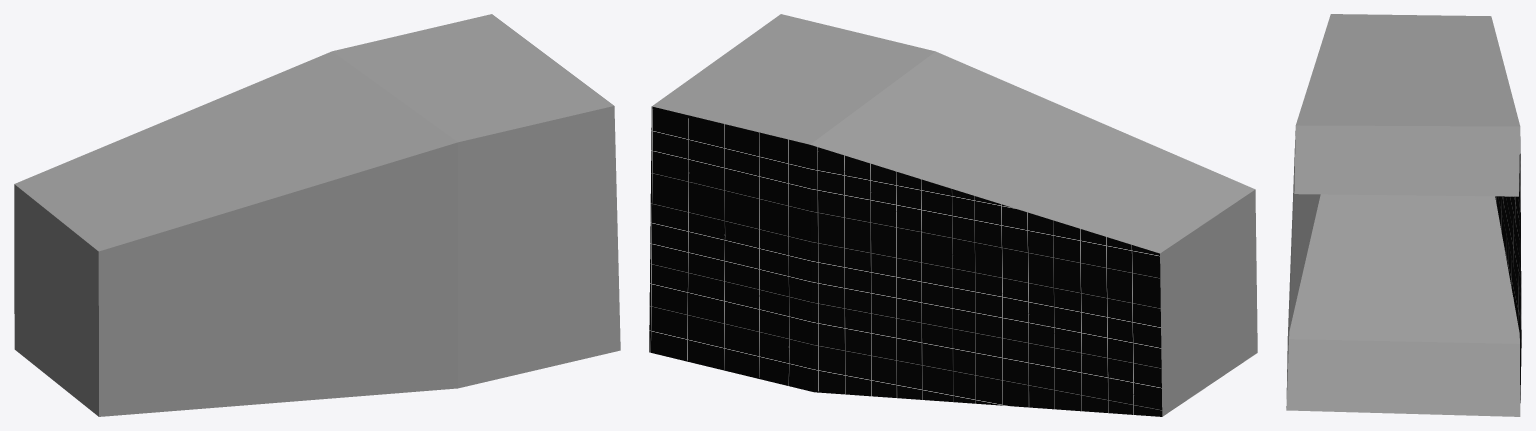
The model's file is app2obj.obj.
The picture shows the model from 3 angles, left to right: view 1: azimuth 30°, elevation 25°; view 2: azimuth 150°, elevation 25°; view 3: azimuth 270°, elevation 25°; orthographic projection. The views are drawn at different scales.
Size of the model in its own units: 9.93 by 4.7 by 4.52.
